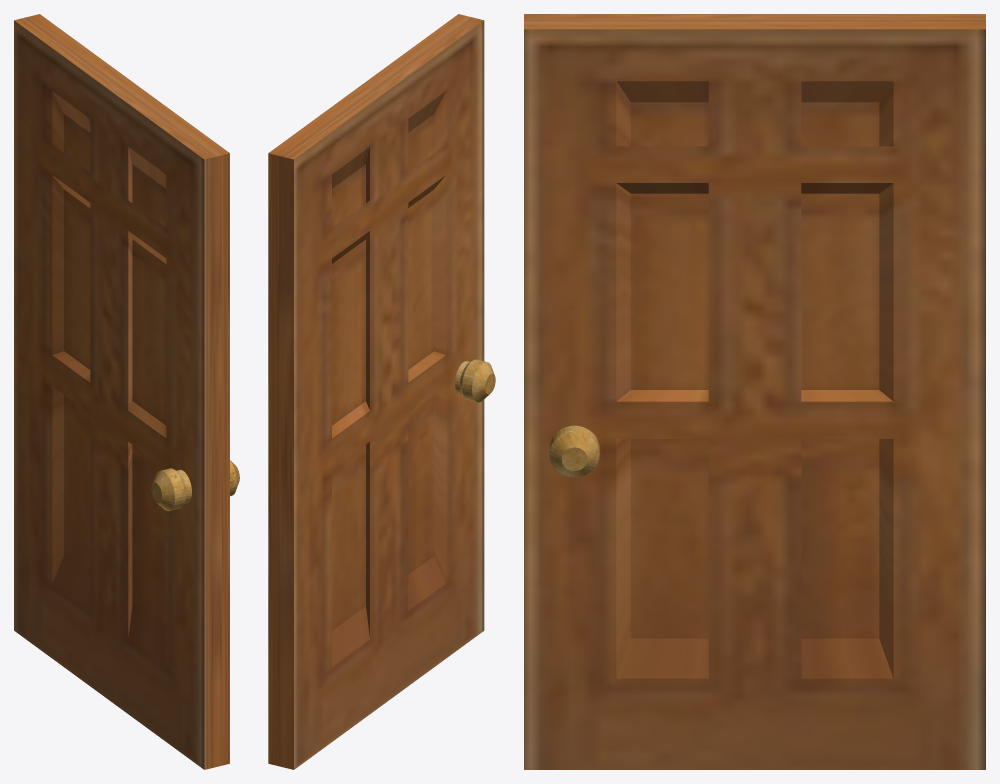
File: door.fbx
3 renders of one model, left to right at view 1: azimuth 30°, elevation 25°; view 2: azimuth 150°, elevation 25°; view 3: azimuth 270°, elevation 25°, orthographic. The views are drawn at different scales.
Parts seen in each view (by area): view 1: Cube.002; view 2: Cube.002; view 3: Cube.002.
Part boxes in pixels (x1,y1,x2,y2): Cube.002: (14, 14, 239, 769); Cube.002: (268, 14, 495, 769); Cube.002: (524, 14, 985, 769).
Bounding box in the file's own units: 32.6 × 244 × 138.
